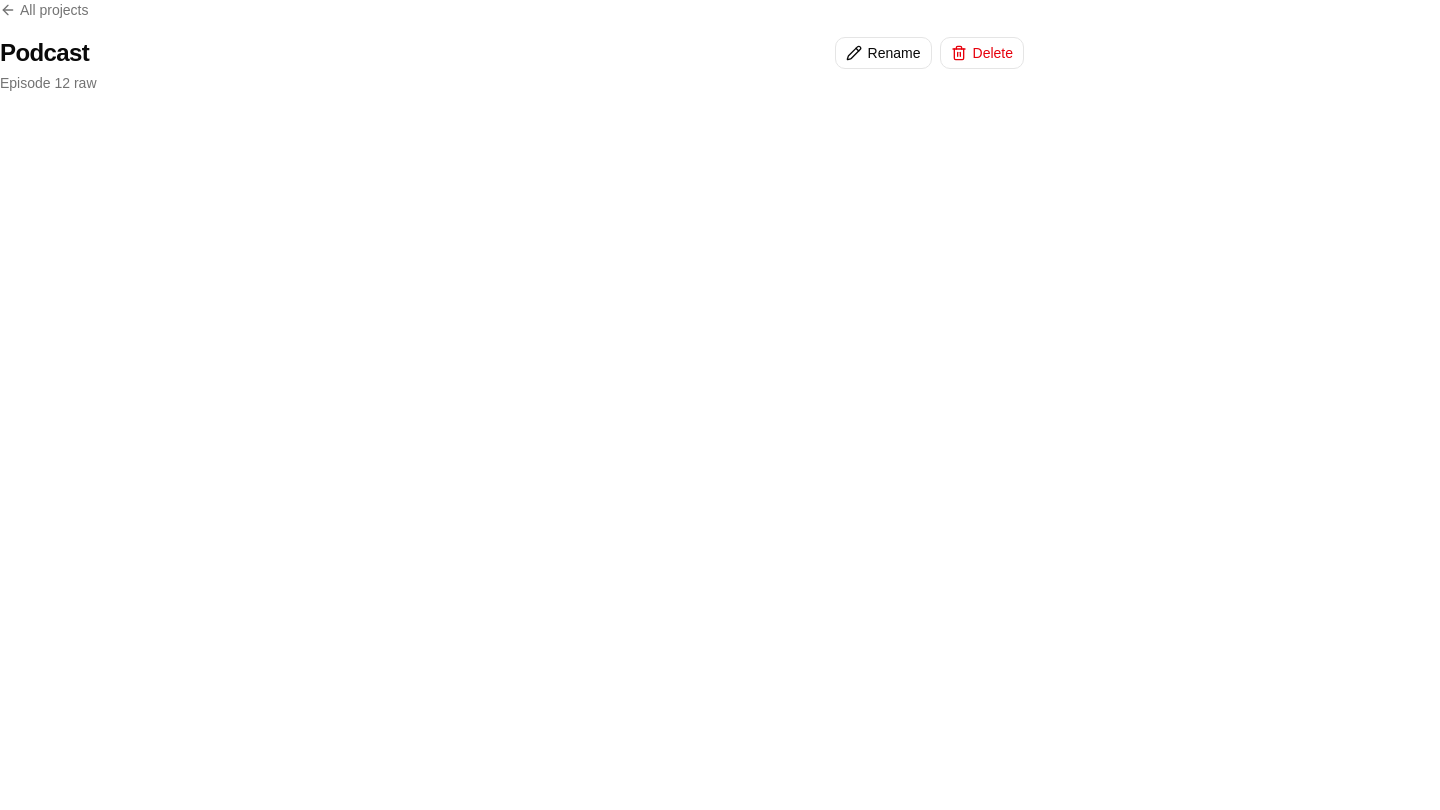
Test case: ProjectPage › renames the project through the pre-filled dialog
The width and height of the screenshot is (1440, 810).
Click the button "Rename" at (883, 53), box [835,37,932,69]
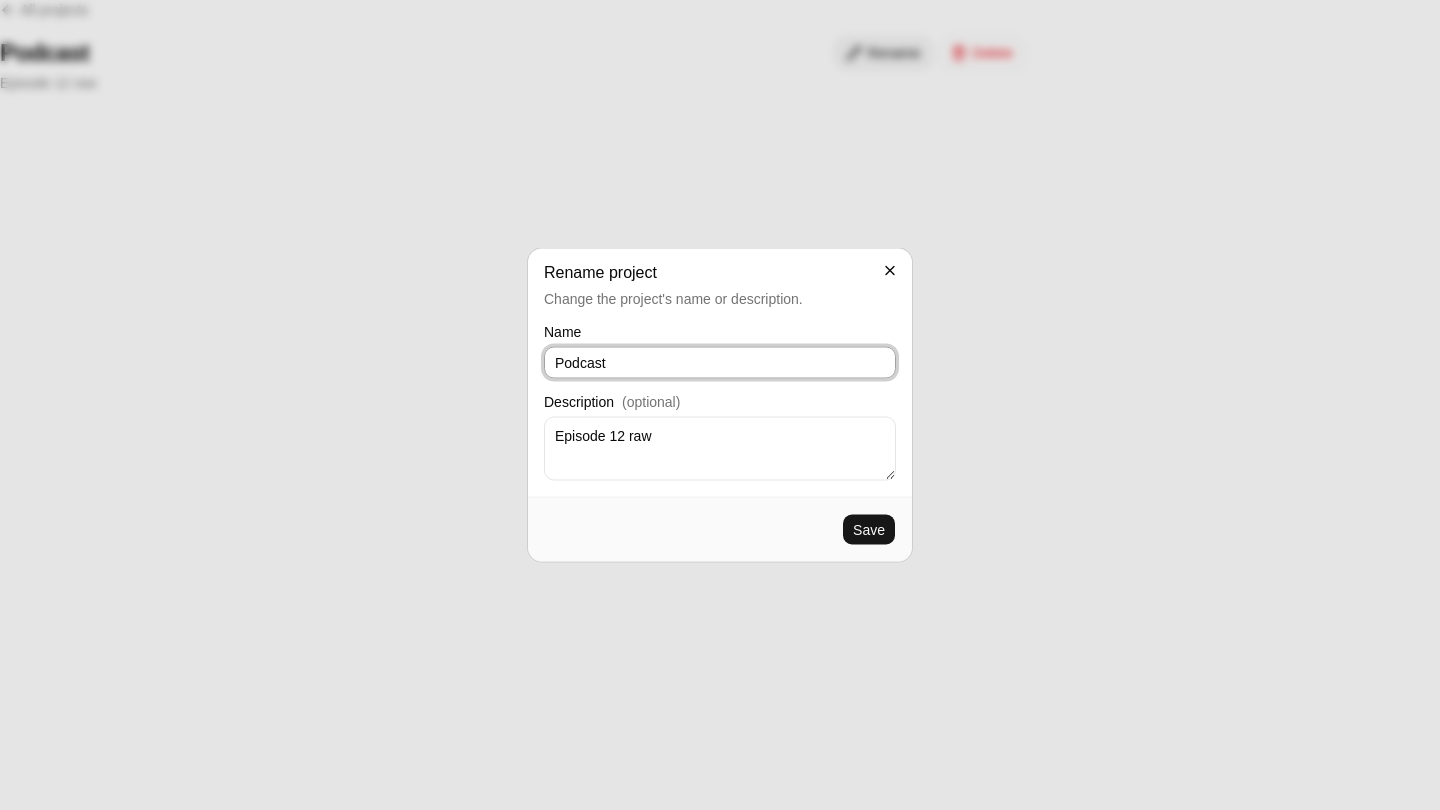
expect the field labelled "Name" holds "Podcast": met
Replace the text in the field labelled "Name" with "Podcast — final" at (720, 362), box [544,346,896,378]
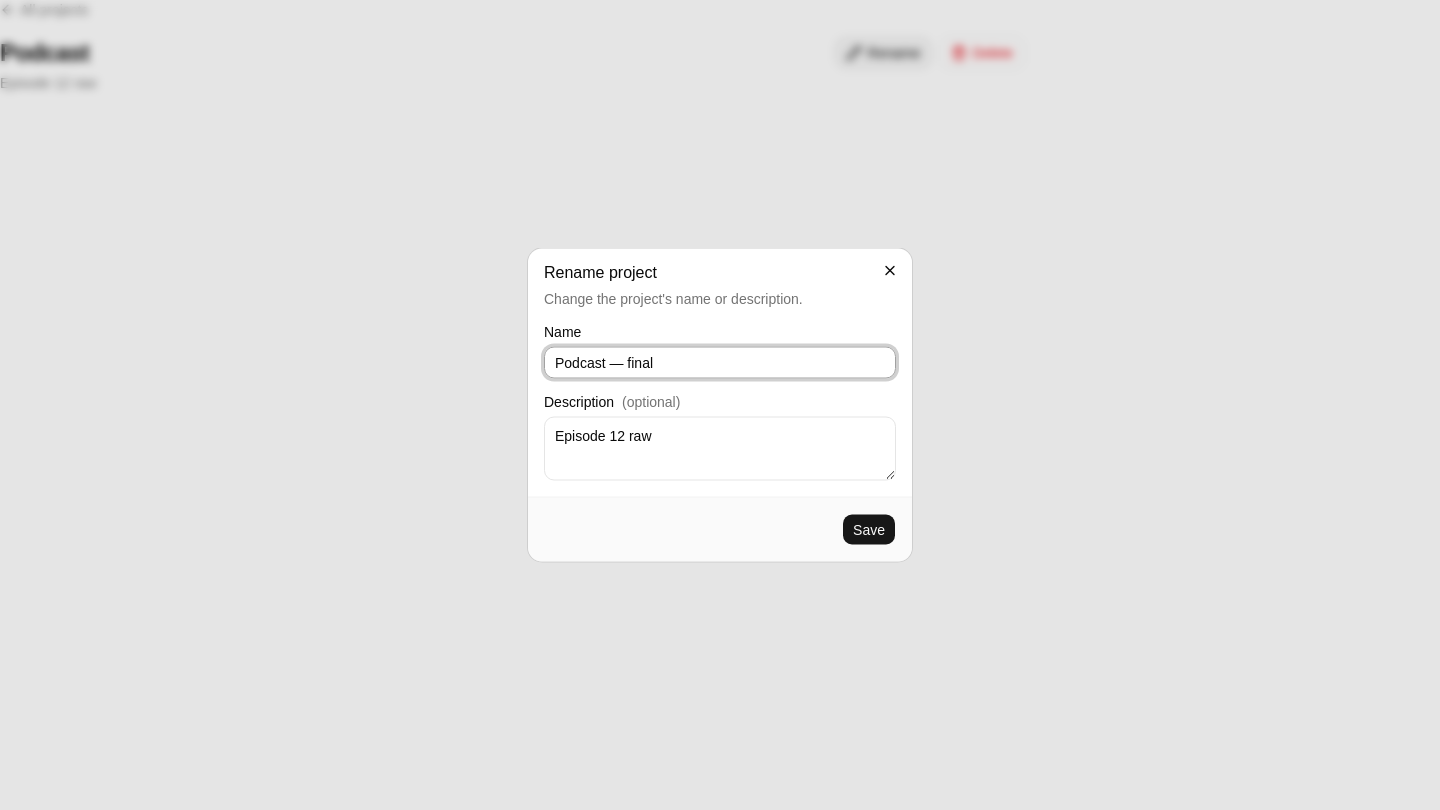
Click the button "Save" at (869, 530), box [842,514,896,546]
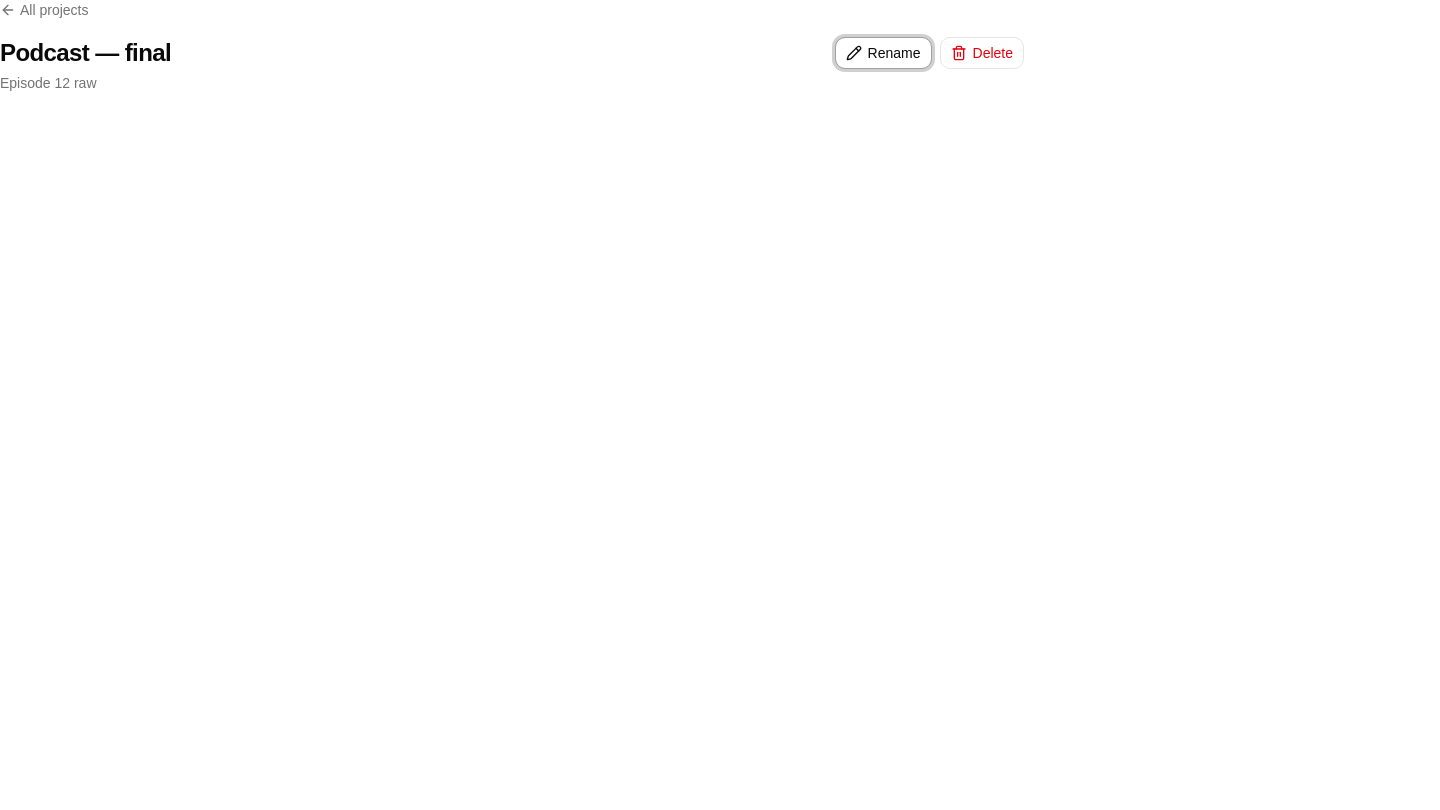
expect the heading "Podcast — final" is shown: met, box [0,37,171,69]
